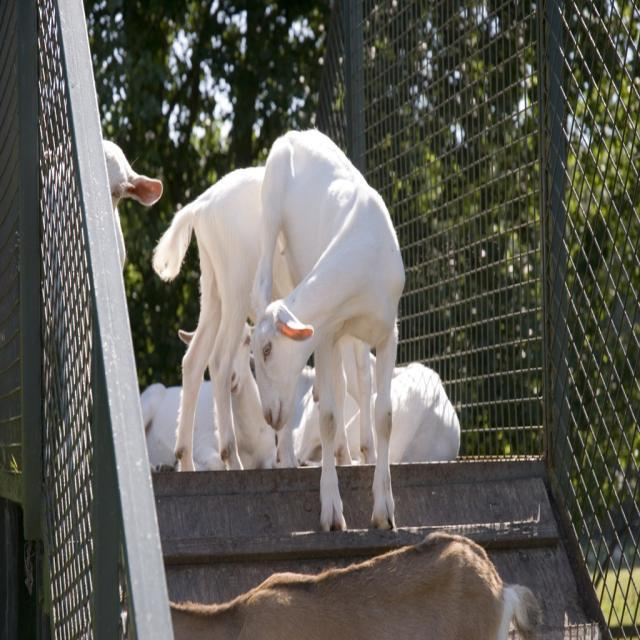Goat: (151, 126, 406, 533), (166, 530, 542, 638), (140, 356, 461, 471)
